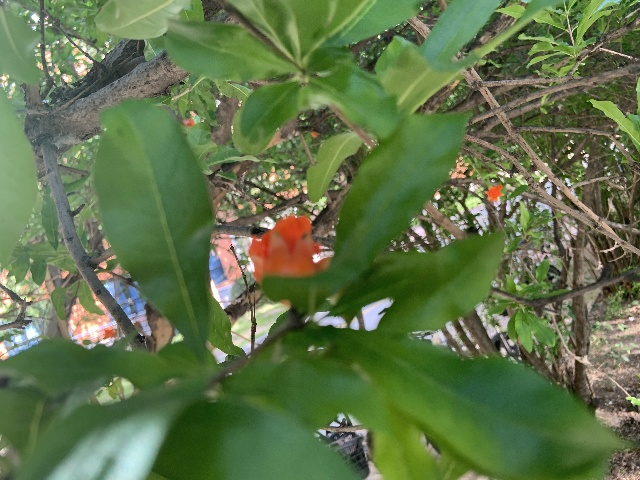flower: (248, 213, 330, 284), (485, 185, 503, 202)
